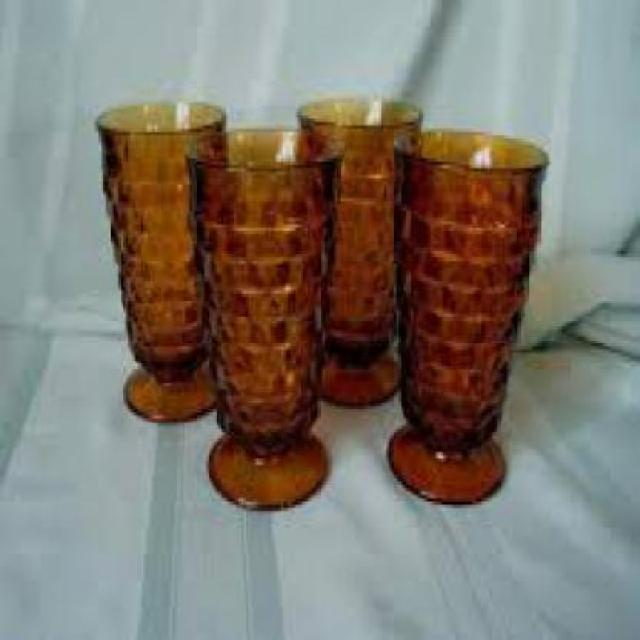kaca: (386, 129, 545, 502), (183, 126, 331, 508), (94, 100, 221, 420), (294, 96, 421, 407)
